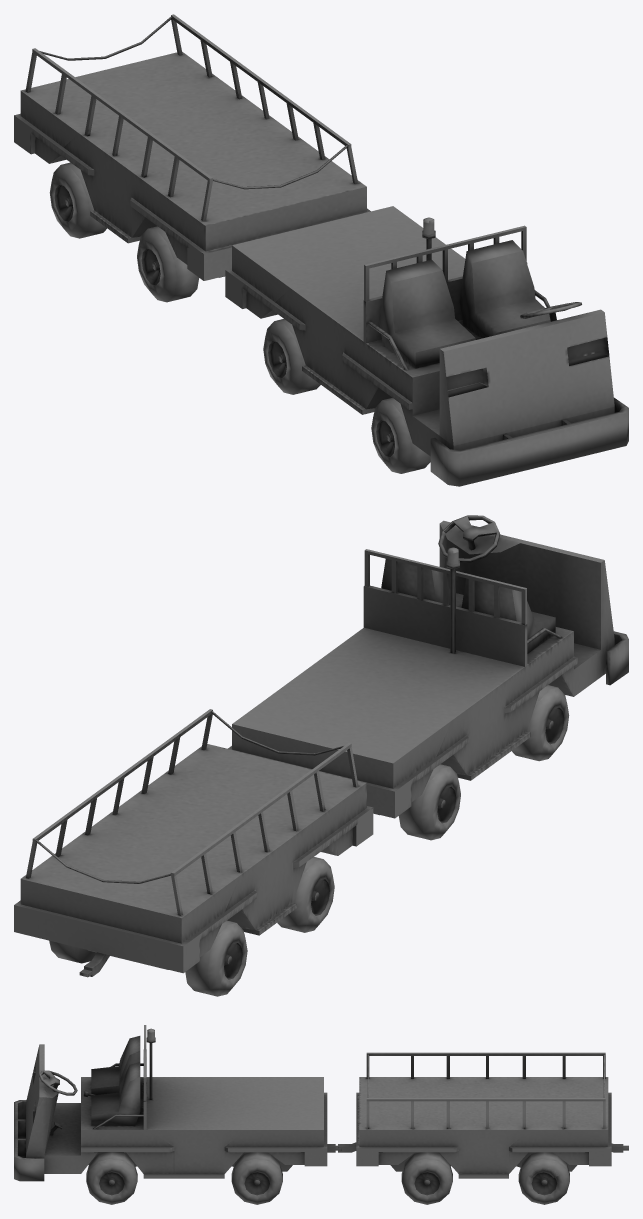
File: Model_Transporter.fbx
3 renders of one model, top to bottom at view 1: azimuth 30°, elevation 25°; view 2: azimuth 150°, elevation 25°; view 3: azimuth 270°, elevation 25°, orthographic. The views are drawn at different scales.
Visible parts, largest first — view 1: Transporter_Base, Trailer_Base, Front_Right (×2), Rear_Right (×2); view 2: Transporter_Base, Trailer_Base, Rear_Right (×2), Front_Right (×2); view 3: Transporter_Base, Trailer_Base, Front_Left (×2), Rear_Left (×2).
Part boxes in pixels (x1,y1,x2,y2): Transporter_Base: (225,206,628,486); Trailer_Base: (14,14,370,280); Front_Right (×2): (137,226,430,473); Rear_Right (×2): (49,162,320,394); Transporter_Base: (228,515,628,818); Trailer_Base: (14,709,373,977); Rear_Right (×2): (185,764,460,996); Front_Right (×2): (277,685,569,932); Transporter_Base: (14,1025,341,1181); Trailer_Base: (338,1052,628,1192); Front_Left (×2): (86,1152,452,1204); Rear_Left (×2): (231,1152,569,1204).
Size of the model in its own units: 1.66 by 1.88 by 7.24.
